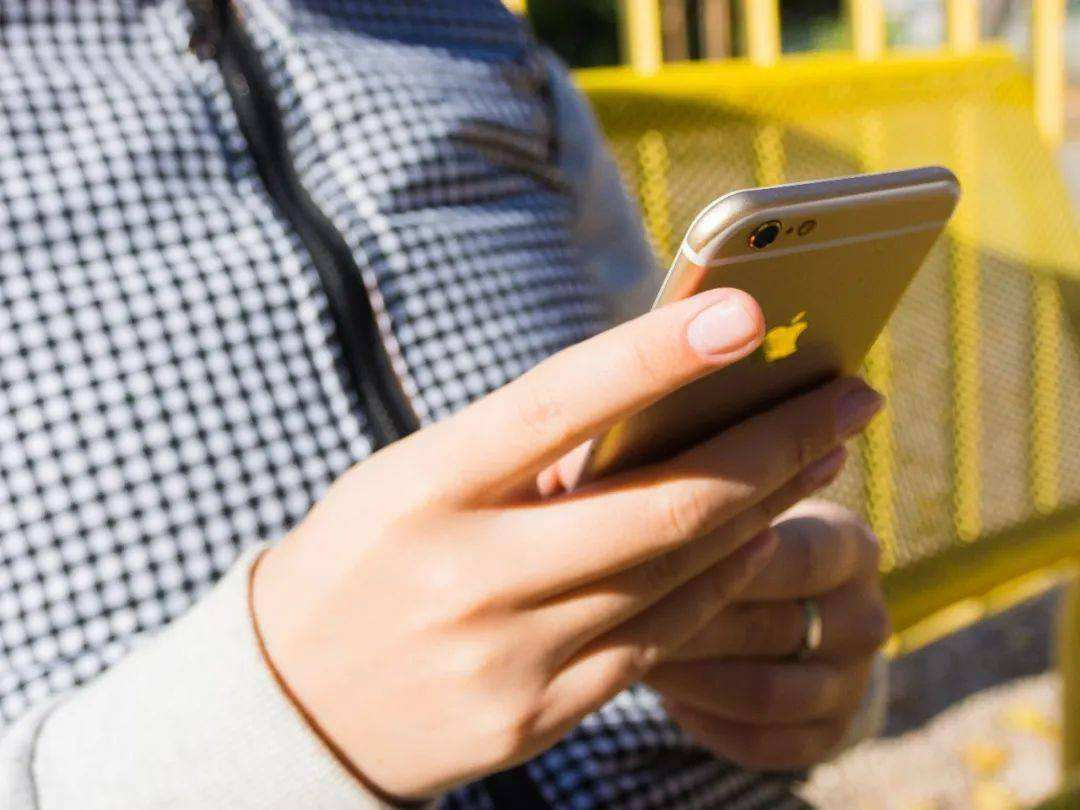reading: (252, 151, 969, 798)
